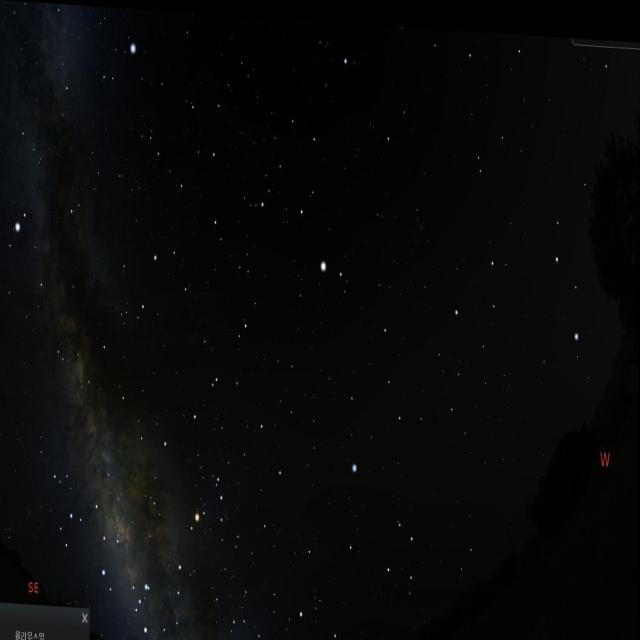aquila: (0, 180, 79, 372)
bootes: (264, 99, 357, 298)
leo: (453, 195, 601, 354)
lyra: (95, 27, 142, 103)
sagittarius: (54, 474, 133, 598)
scorpius: (132, 446, 232, 638)
